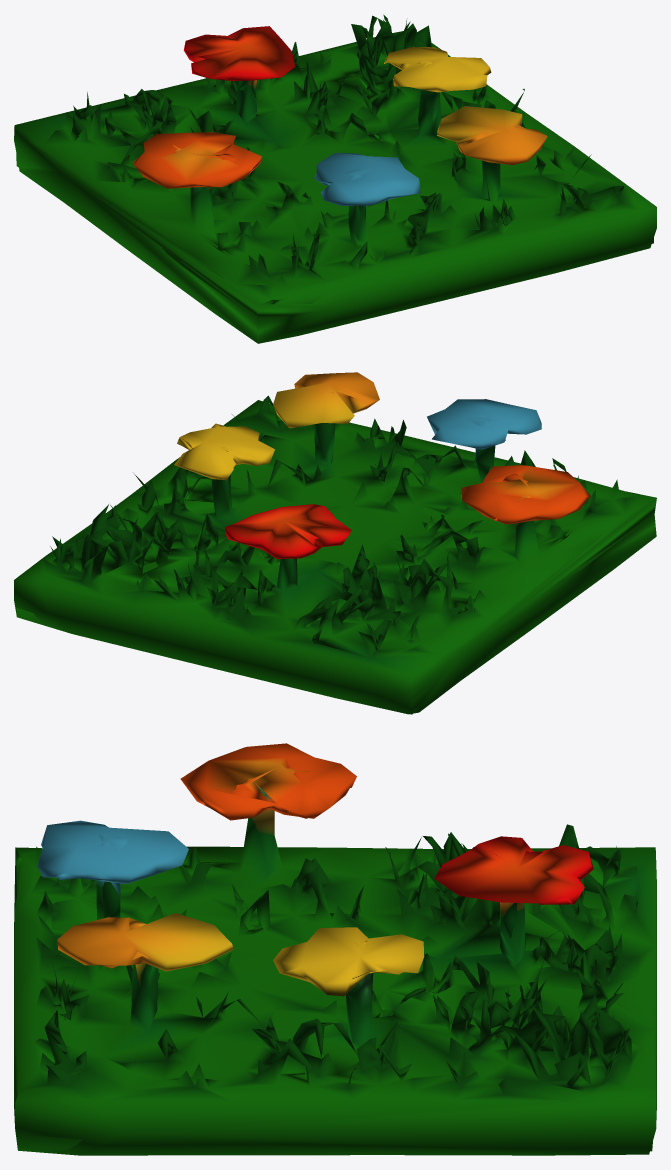
Rendered from gen3d-wildflower-patch-lod0.glb.
The picture shows the model from 3 angles, top to bottom: view 1: azimuth 30°, elevation 25°; view 2: azimuth 150°, elevation 25°; view 3: azimuth 270°, elevation 25°; orthographic projection. The views are drawn at different scales.
Visible parts, largest first — view 1: part_0; view 2: part_0; view 3: part_0.
Part boxes in pixels (x1,y1,x2,y2): part_0: [14, 14, 656, 343]; part_0: [14, 372, 656, 714]; part_0: [14, 743, 656, 1155].
Size of the model in its own units: 3.77 by 0.9941 by 3.82.
